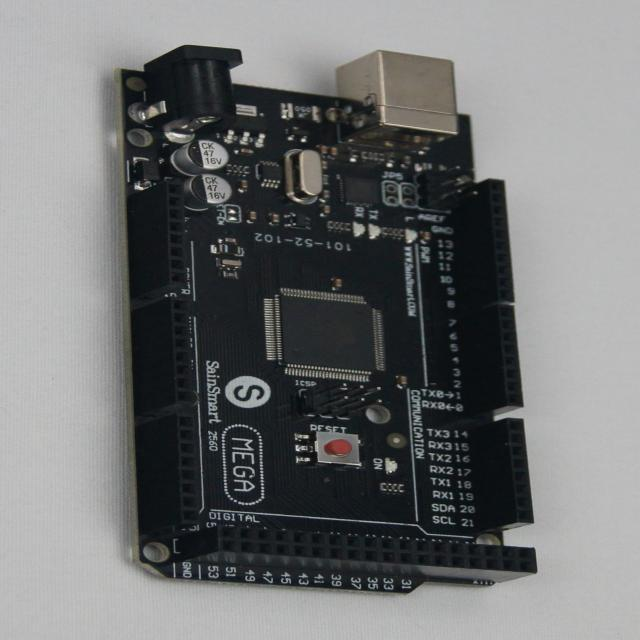Arduino Mega 2560 -Black-: (121, 47, 537, 593)
